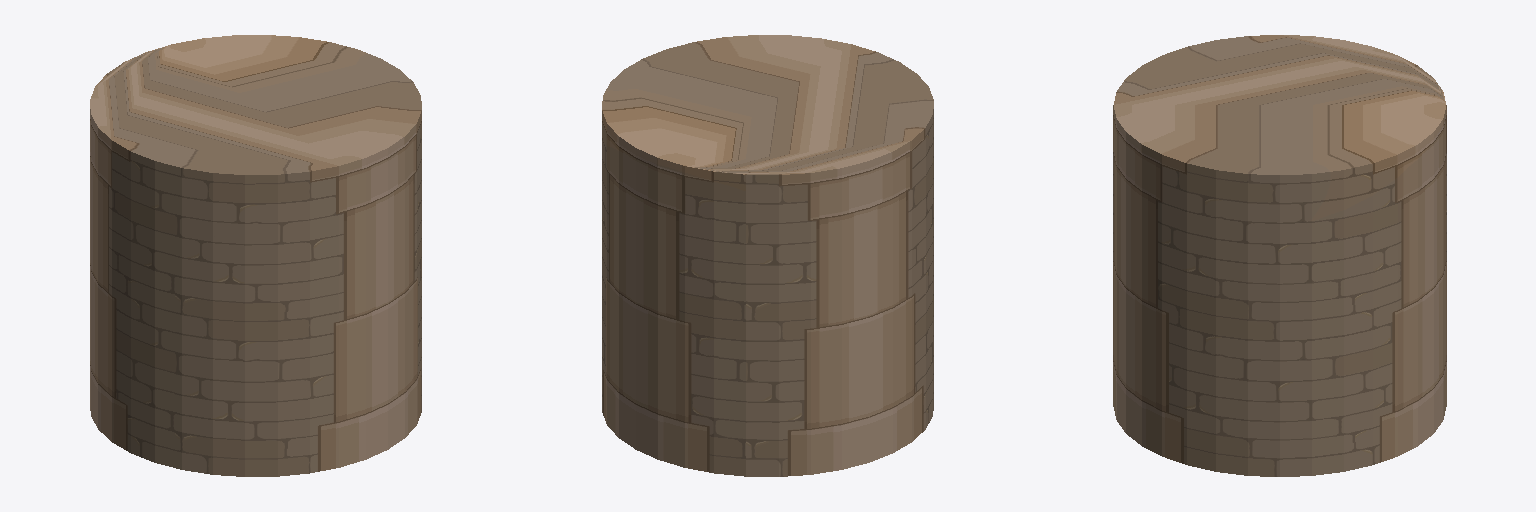
3 renders of one model, left to right at view 1: azimuth 30°, elevation 25°; view 2: azimuth 150°, elevation 25°; view 3: azimuth 270°, elevation 25°, orthographic.
Parts seen in each view (by area): view 1: cylinder; view 2: cylinder; view 3: cylinder.
Boxes of the visible parts, <box> form: cylinder: <box>90,35,421,476</box>; cylinder: <box>602,35,933,476</box>; cylinder: <box>1113,35,1446,476</box>.
Size of the model in its own units: 2 by 2 by 2.
Materials: 1 (1 with a texture image).